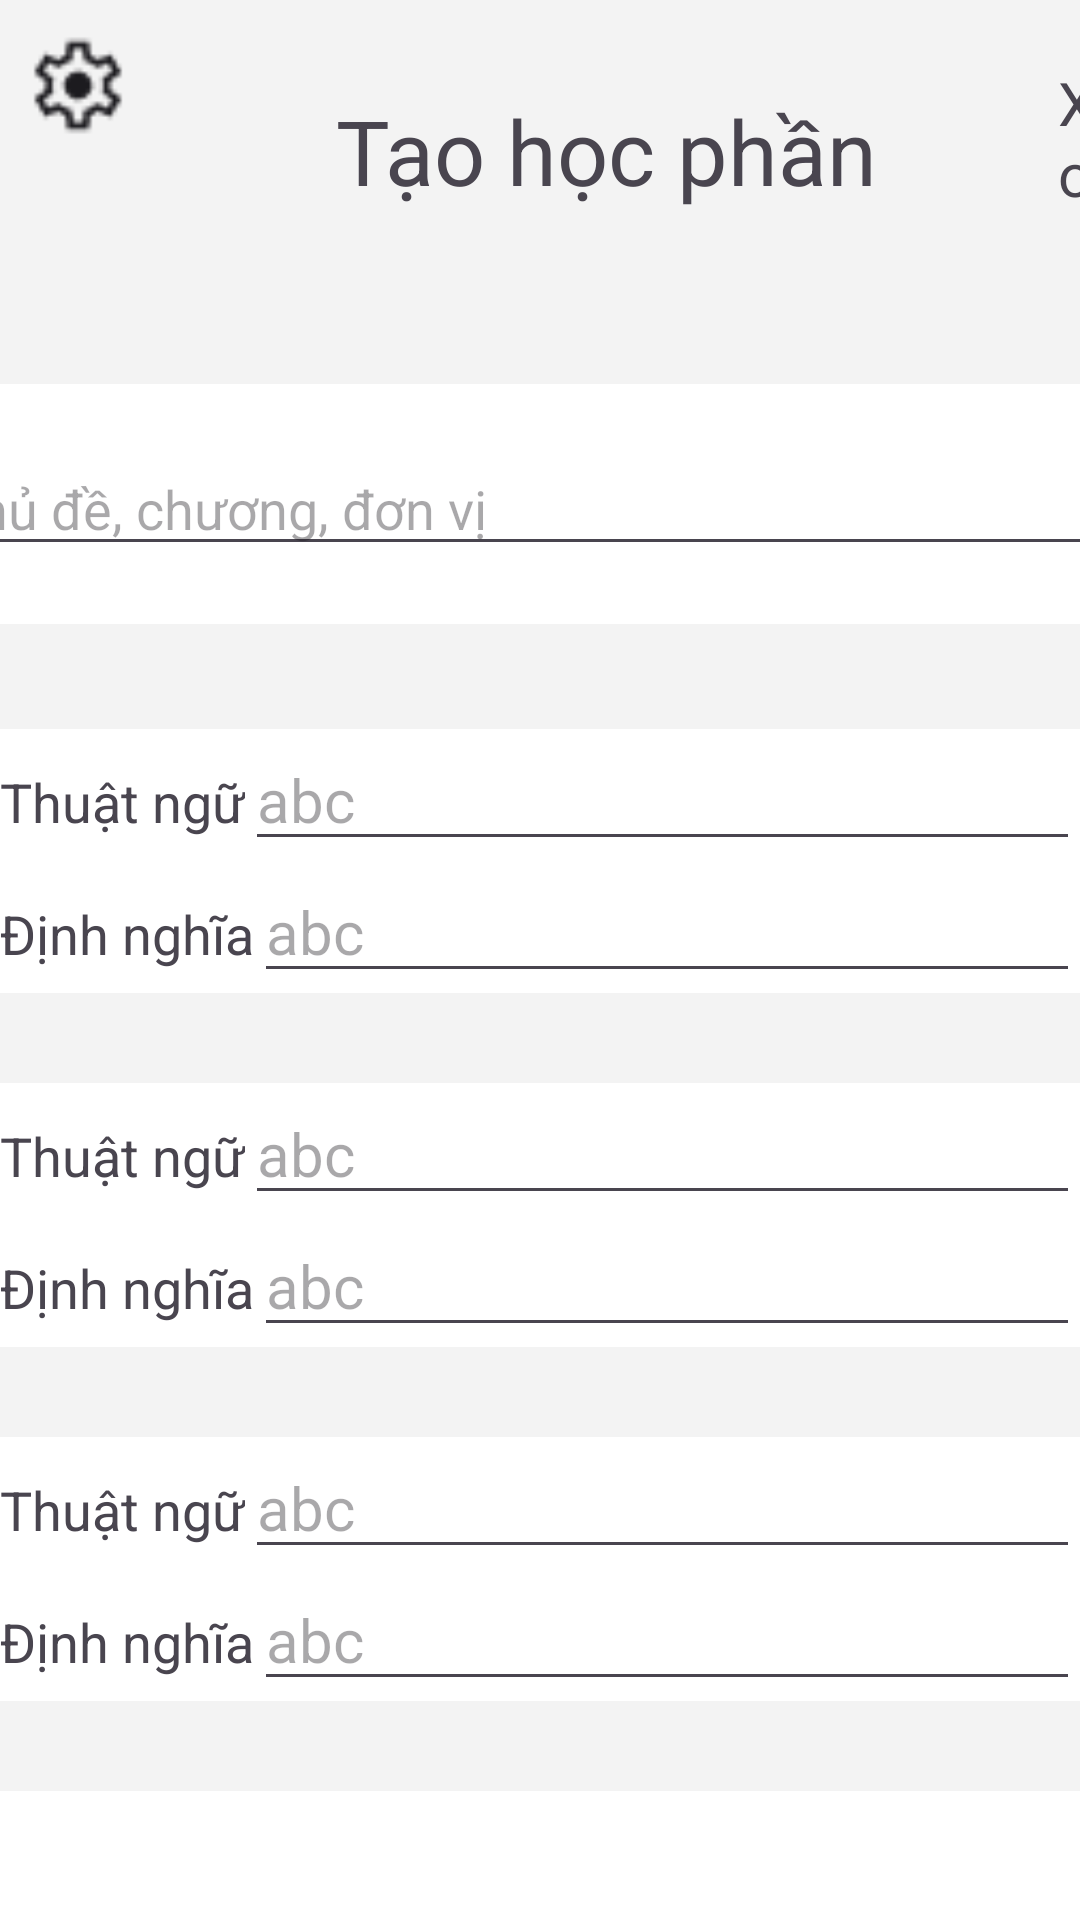

Icons on this 1080w x 1920h Android screen, each with the point to tap as (x,y):
settings: (78,85)
